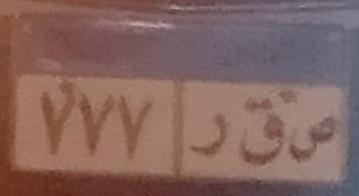7: (115, 86, 154, 157), (35, 90, 74, 160), (78, 87, 115, 152)
qaaf: (235, 92, 287, 177)
raa: (189, 106, 229, 161)
saad: (290, 110, 336, 163)
